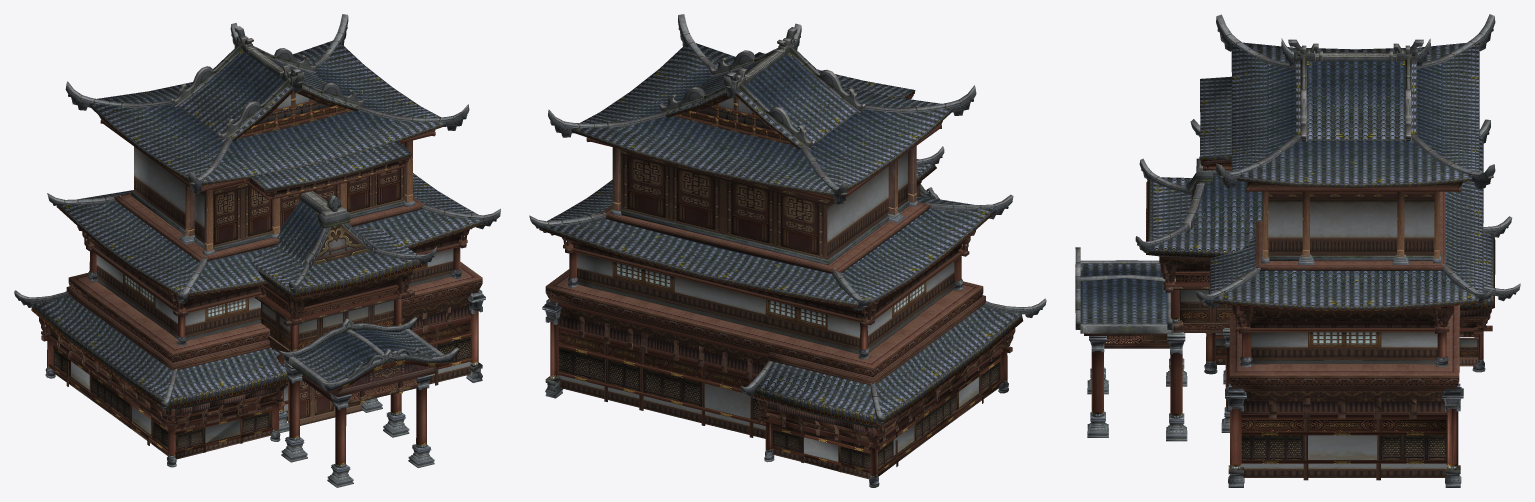
Rendered from S2_Build_XSC080_1.FBX.
The picture shows the model from 3 angles, left to right: view 1: azimuth 30°, elevation 25°; view 2: azimuth 150°, elevation 25°; view 3: azimuth 270°, elevation 25°; orthographic projection. The views are drawn at different scales.
Parts seen in each view (by area): view 1: S2_Build_XSC080_1; view 2: S2_Build_XSC080_1; view 3: S2_Build_XSC080_1.
Part boxes in pixels (x1,y1,x2,y2): S2_Build_XSC080_1: [14, 14, 500, 487]; S2_Build_XSC080_1: [529, 14, 1046, 487]; S2_Build_XSC080_1: [1075, 14, 1520, 487].
Bounding box in the file's own units: 3648 × 3367 × 3638.
